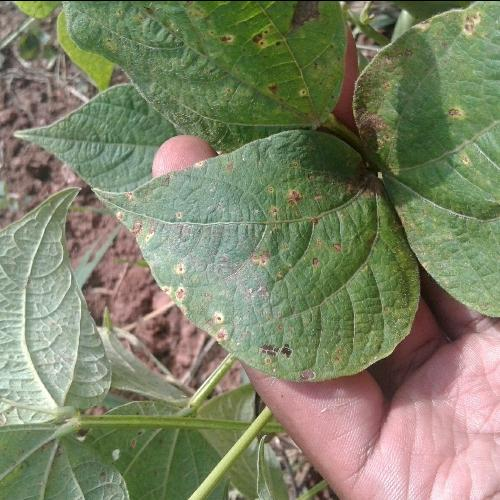hawar: (256, 170, 352, 225), (360, 49, 406, 152), (243, 247, 292, 304), (215, 20, 284, 58), (303, 234, 349, 278), (256, 335, 306, 370), (165, 262, 199, 306), (130, 194, 165, 236), (258, 80, 314, 106), (455, 3, 492, 39), (284, 0, 328, 29), (436, 96, 477, 126), (214, 308, 229, 350), (298, 366, 324, 388)
mozaik: (240, 166, 382, 356), (423, 36, 500, 249)
